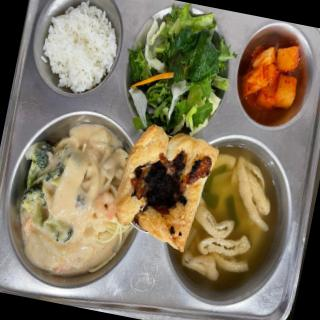Nasi: (32, 1, 129, 108)
